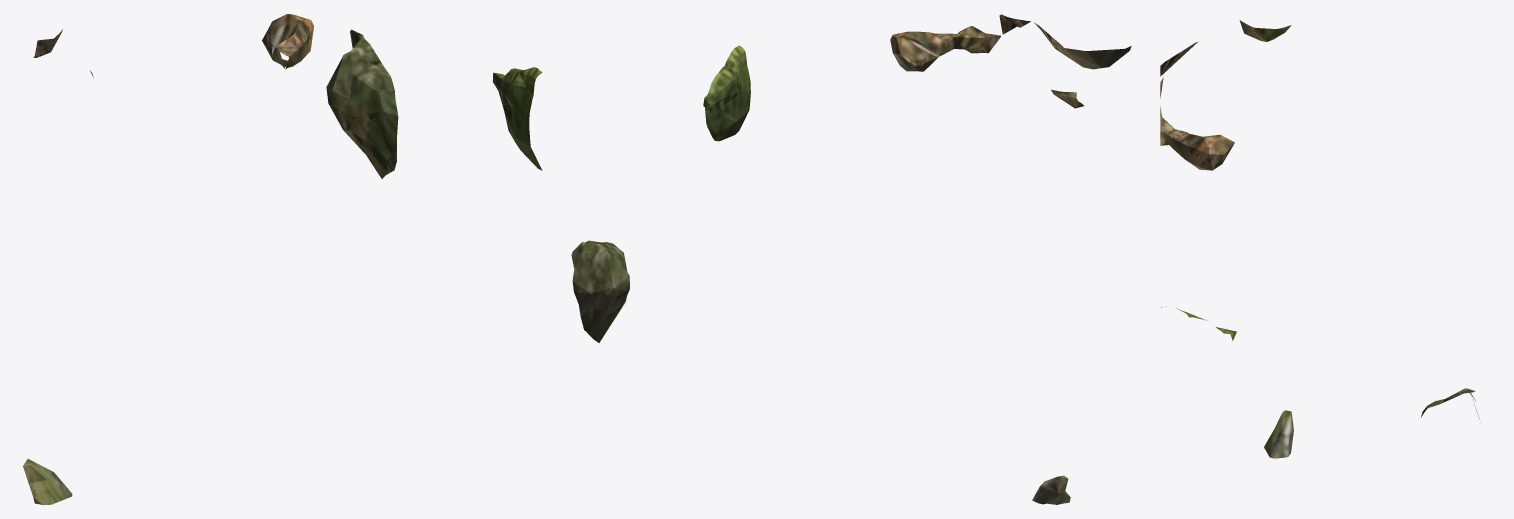
3 renders of one model, left to right at view 1: azimuth 30°, elevation 25°; view 2: azimuth 150°, elevation 25°; view 3: azimuth 270°, elevation 25°, orthographic. The views are drawn at different scales.
Bounding box in the file's own units: 2.95 × 2.95 × 2.15.
Materials: 1 (1 with a texture image).
